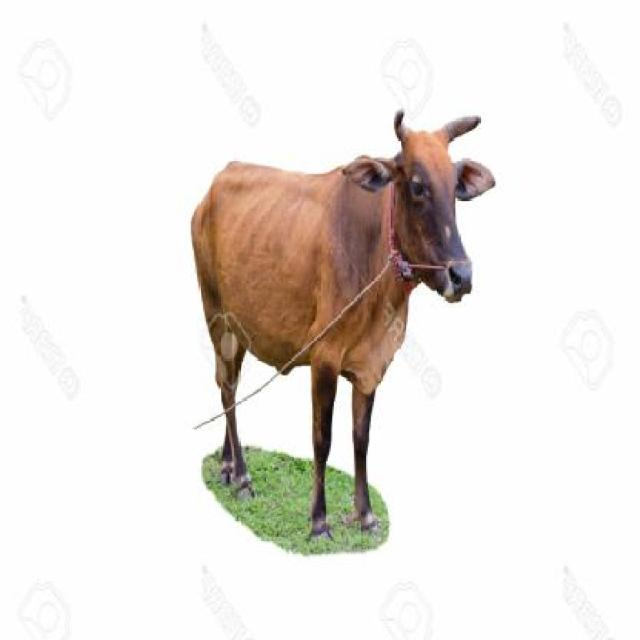Cow: (188, 92, 514, 551)
